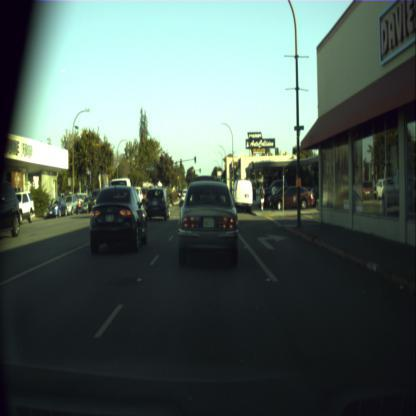Green: (221, 174, 223, 181), (194, 155, 196, 162), (223, 174, 224, 181)
Red: (180, 158, 182, 164)
